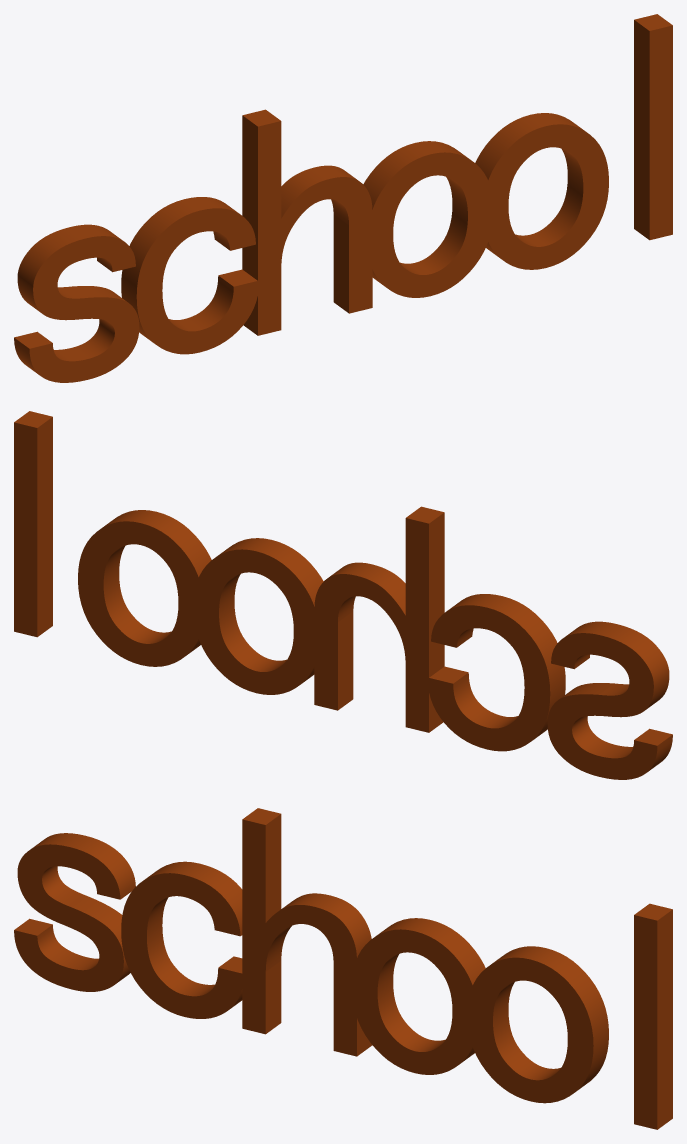
File: wenzi.FBX
The picture shows the model from 3 angles, top to bottom: view 1: azimuth 30°, elevation 25°; view 2: azimuth 150°, elevation 25°; view 3: azimuth 330°, elevation 25°; orthographic projection.
Parts seen in each view (by area): view 1: Text001; view 2: Text001; view 3: Text001.
Part boxes in pixels (x1,y1,x2,y2): Text001: (14, 14, 672, 382); Text001: (14, 411, 672, 779); Text001: (14, 808, 672, 1129).
Size of the model in its own units: 215 by 67.58 by 9.
